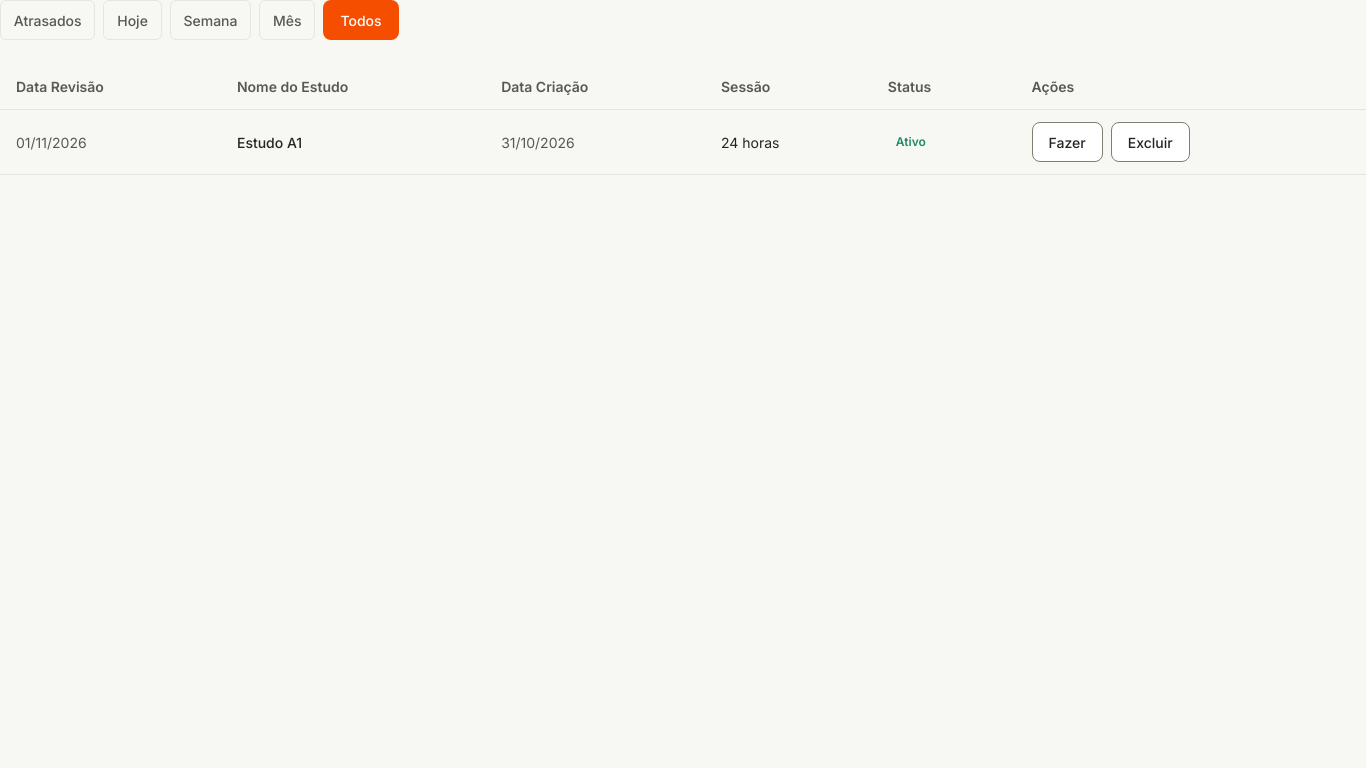
Scenario: ScheduleList › clicar em Excluir só abre a confirmação, sem apagar
Click the button with aria-label "Excluir agendamento de Estudo A1" at (1150, 142), box x1=1111 y1=122 x2=1190 y2=162
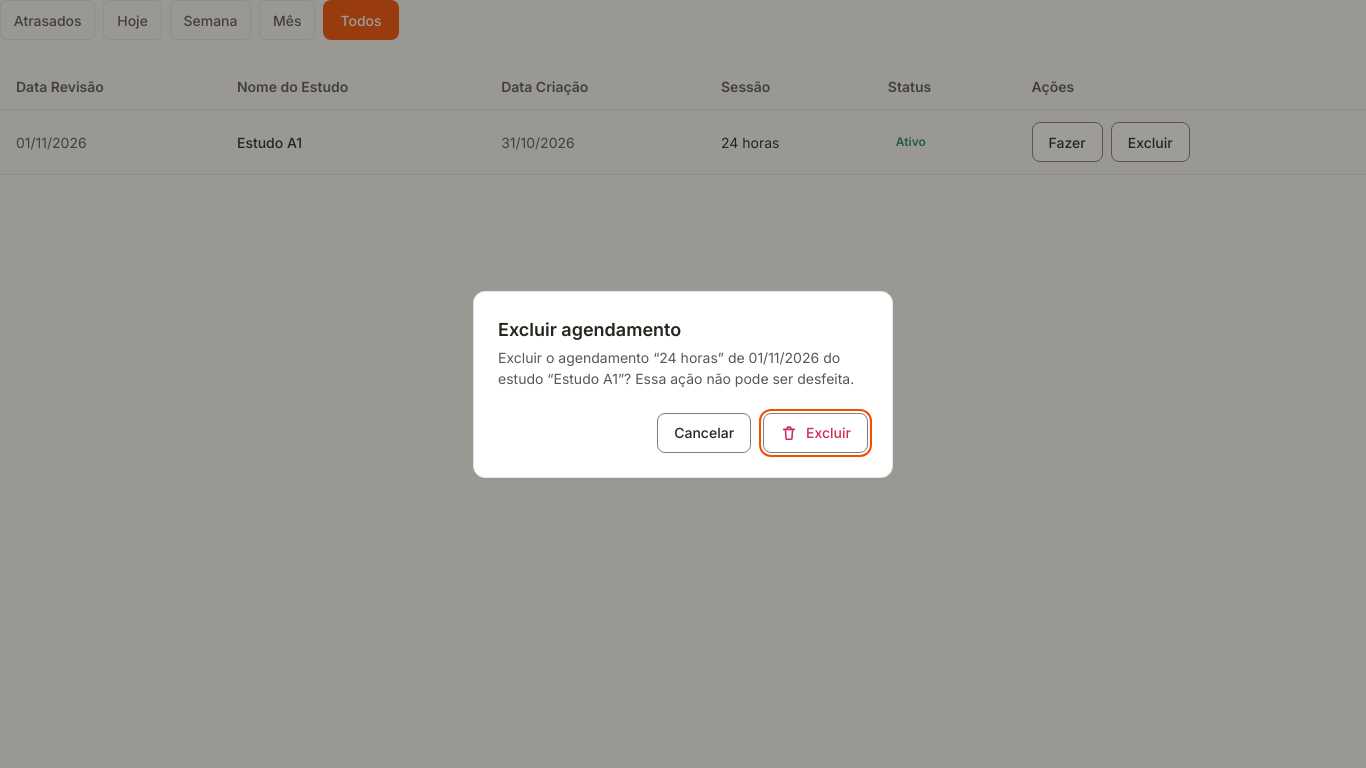
Result: the text "Estudo A1" is shown at x1=554 y1=370 x2=618 y2=386
Result: the text "não pode ser desfeita" is shown at x1=618 y1=370 x2=854 y2=386
